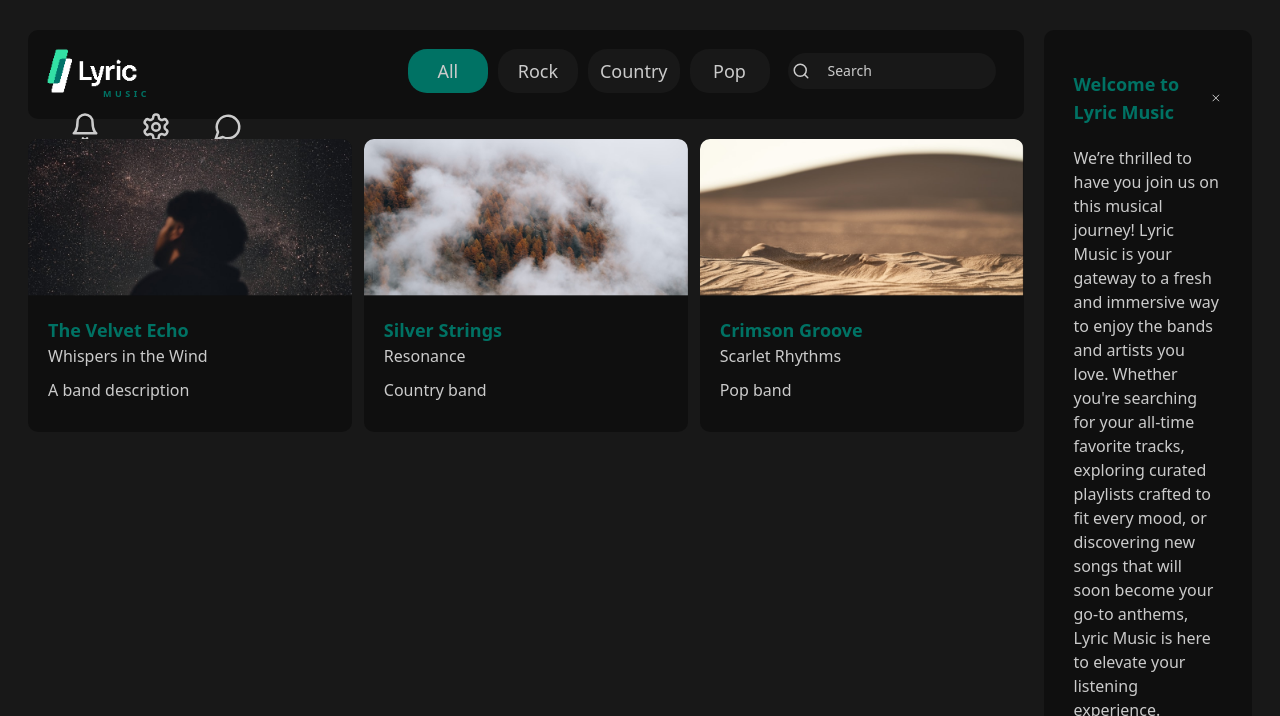
it: App › filters bands by search input and selected category
Check: the heading "The Velvet Echo" is shown, box [48,318,189,342]
Note: Select 'rock' category
Click the button "rock" at (538, 71), box [498,49,578,93]
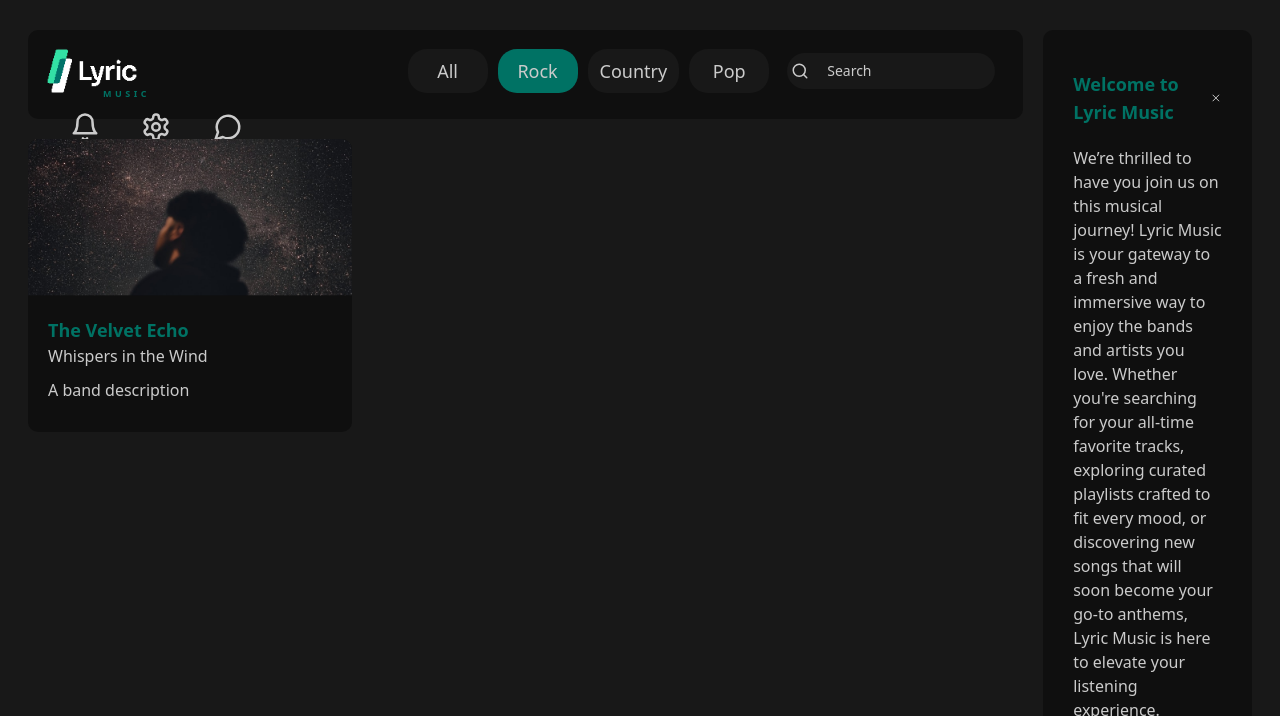
Note: Now search for a band that is not in 'rock'
Type "Silver" into the field with placeholder "Search" at (891, 71), box [787,53,995,89]
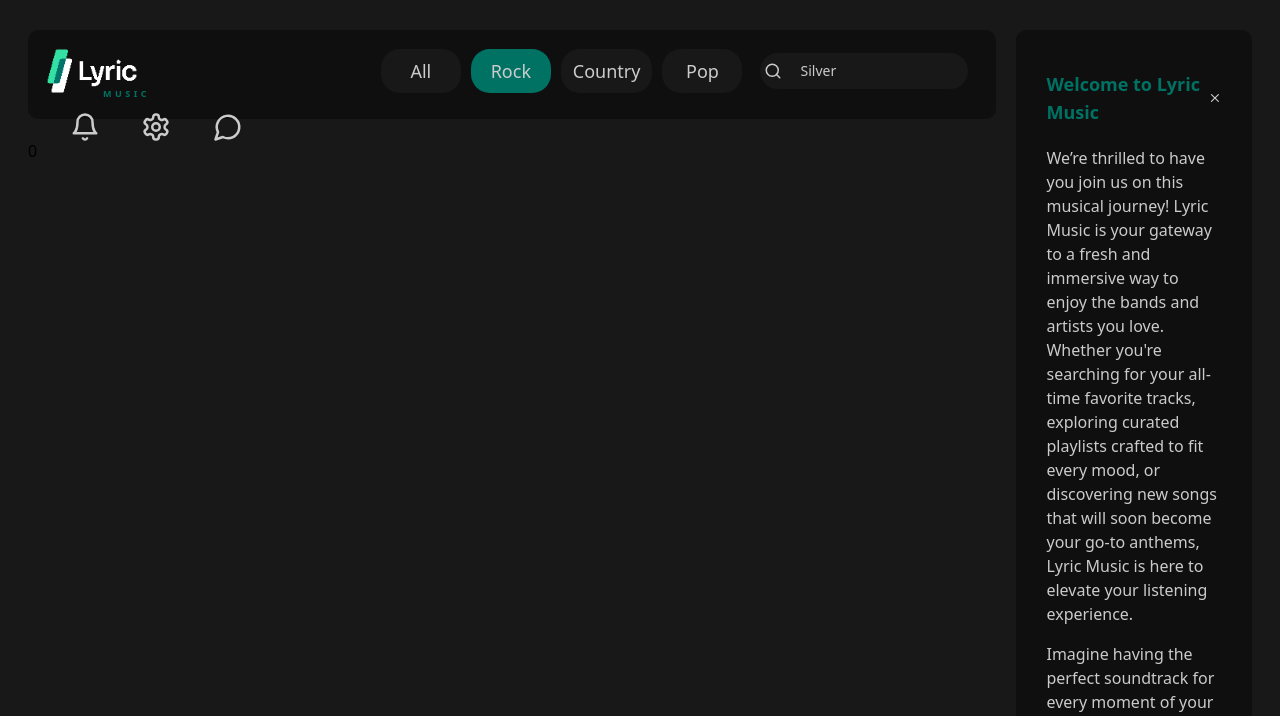
Check: the heading "Silver Strings" is not shown
Check: the heading "The Velvet Echo" is gone
Note: Now search for a band that is in 'rock'
Replace the text in the field with placeholder "Search" with "Velvet" at (864, 71), box [760,53,968,89]
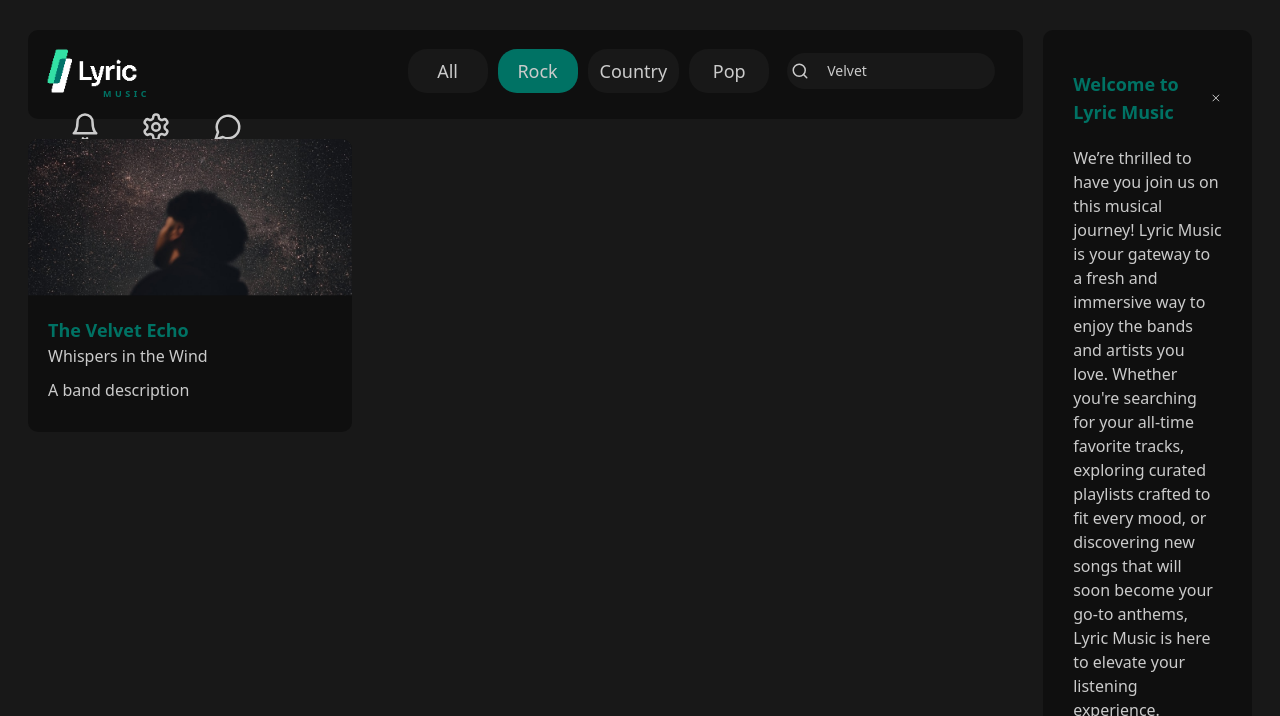
Check: the heading "Silver Strings" is not shown
Check: the heading "The Velvet Echo" is shown, box [48,318,189,342]
